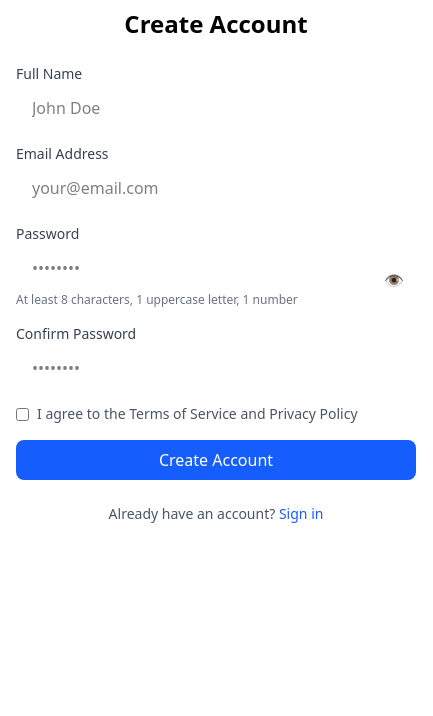
SignupForm › Password Validation › shows error when passwords do not match
In the password field labelled "Password": (216, 268) [16,248,416,288], type "ValidPassword123"
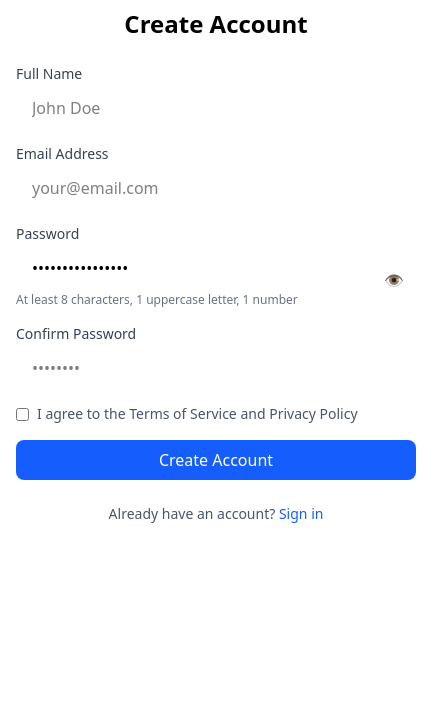
In the password field labelled "Confirm Password": (216, 368) [16,348,416,388], type "DifferentPassword123"
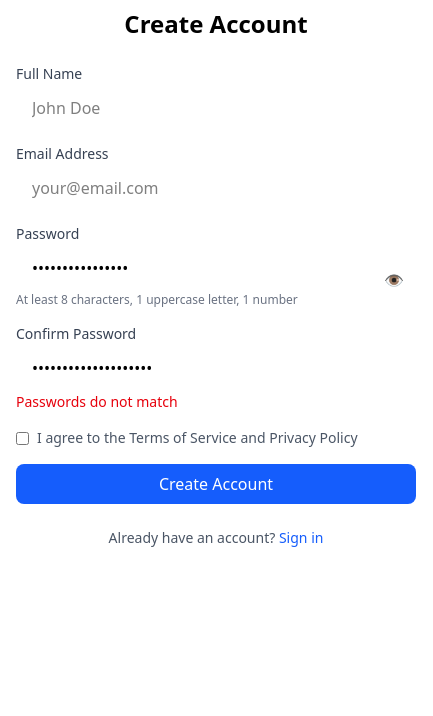
Click the button "Create Account": (216, 484) [16,464,416,504]
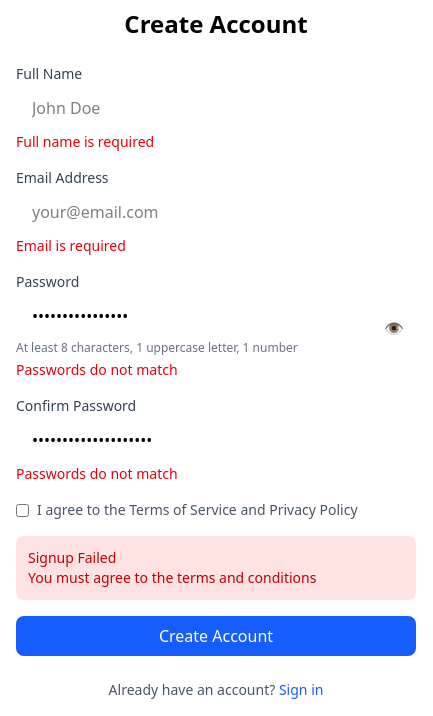
Expected: the 1st text "Passwords do not match" is shown, [16,360,178,379]
